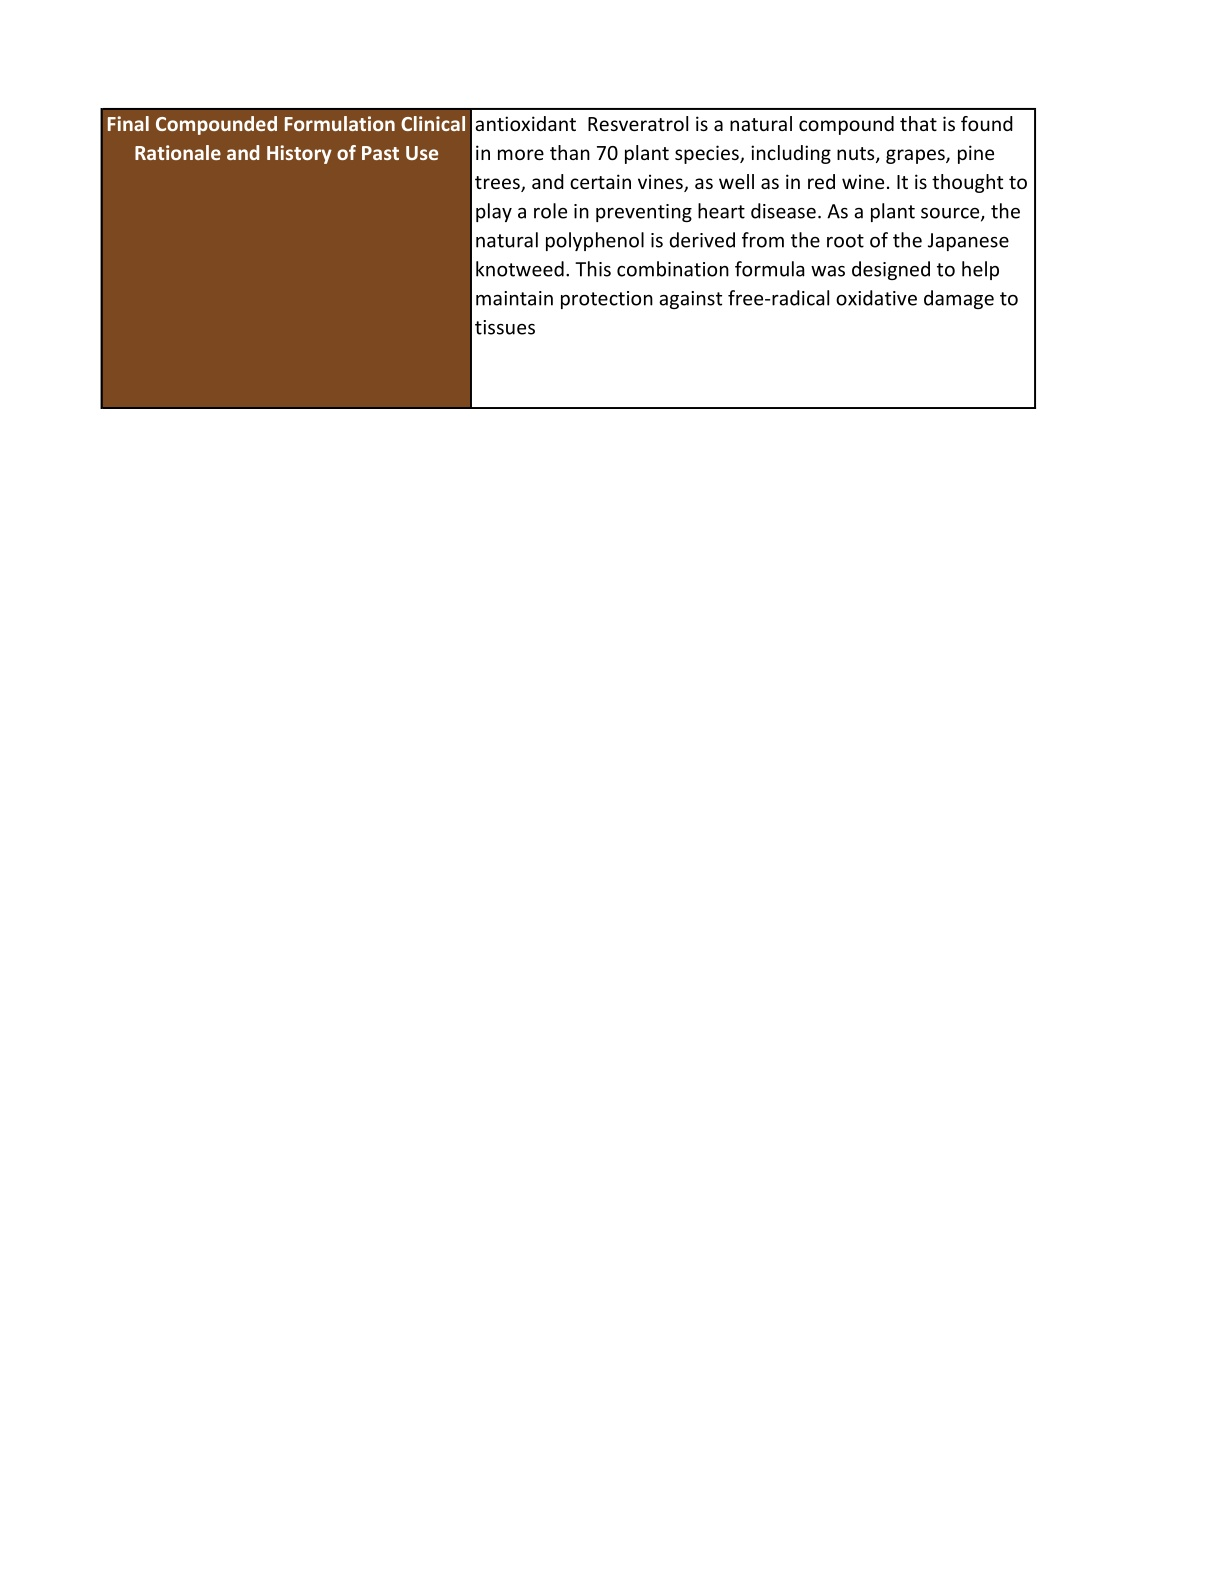full_lined: (99, 105, 1038, 411)
